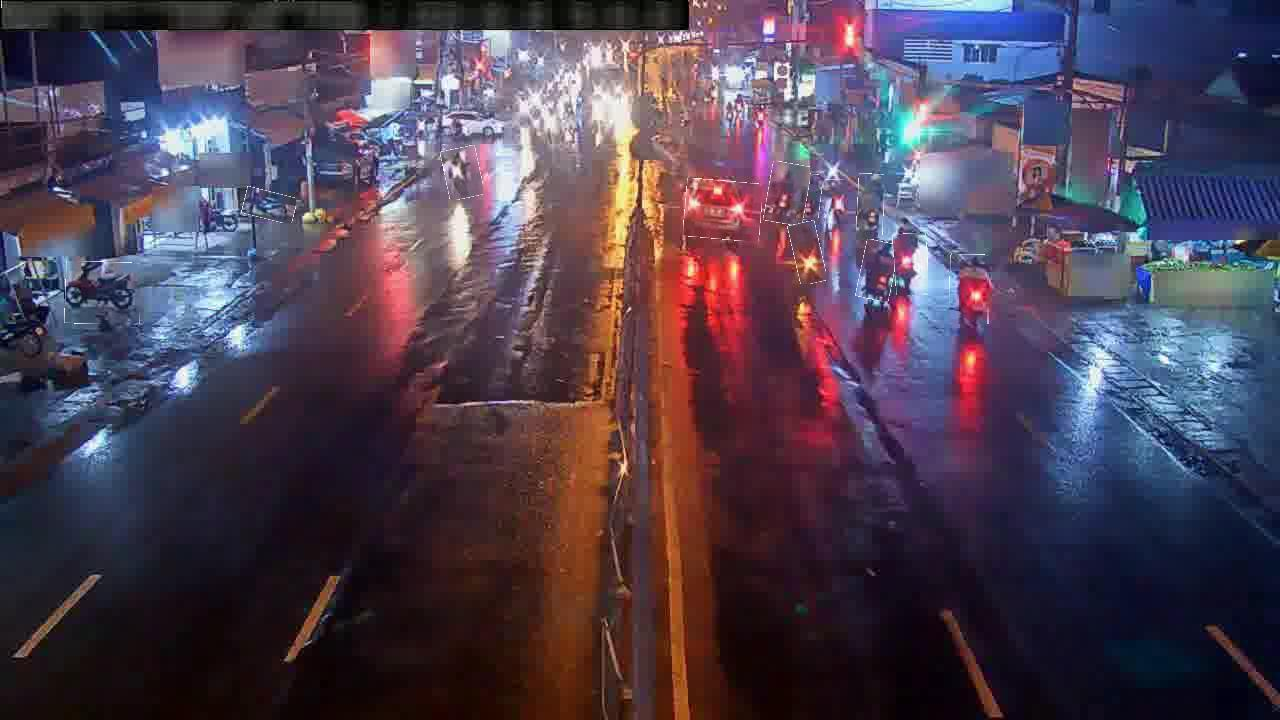container: (684, 180, 762, 241)
motorbike: (65, 262, 141, 325), (950, 255, 990, 325), (766, 163, 809, 225), (858, 241, 897, 301), (893, 234, 928, 296), (443, 146, 482, 200), (791, 221, 824, 284), (857, 174, 885, 239), (243, 189, 296, 222), (798, 174, 822, 221), (825, 179, 845, 224)
